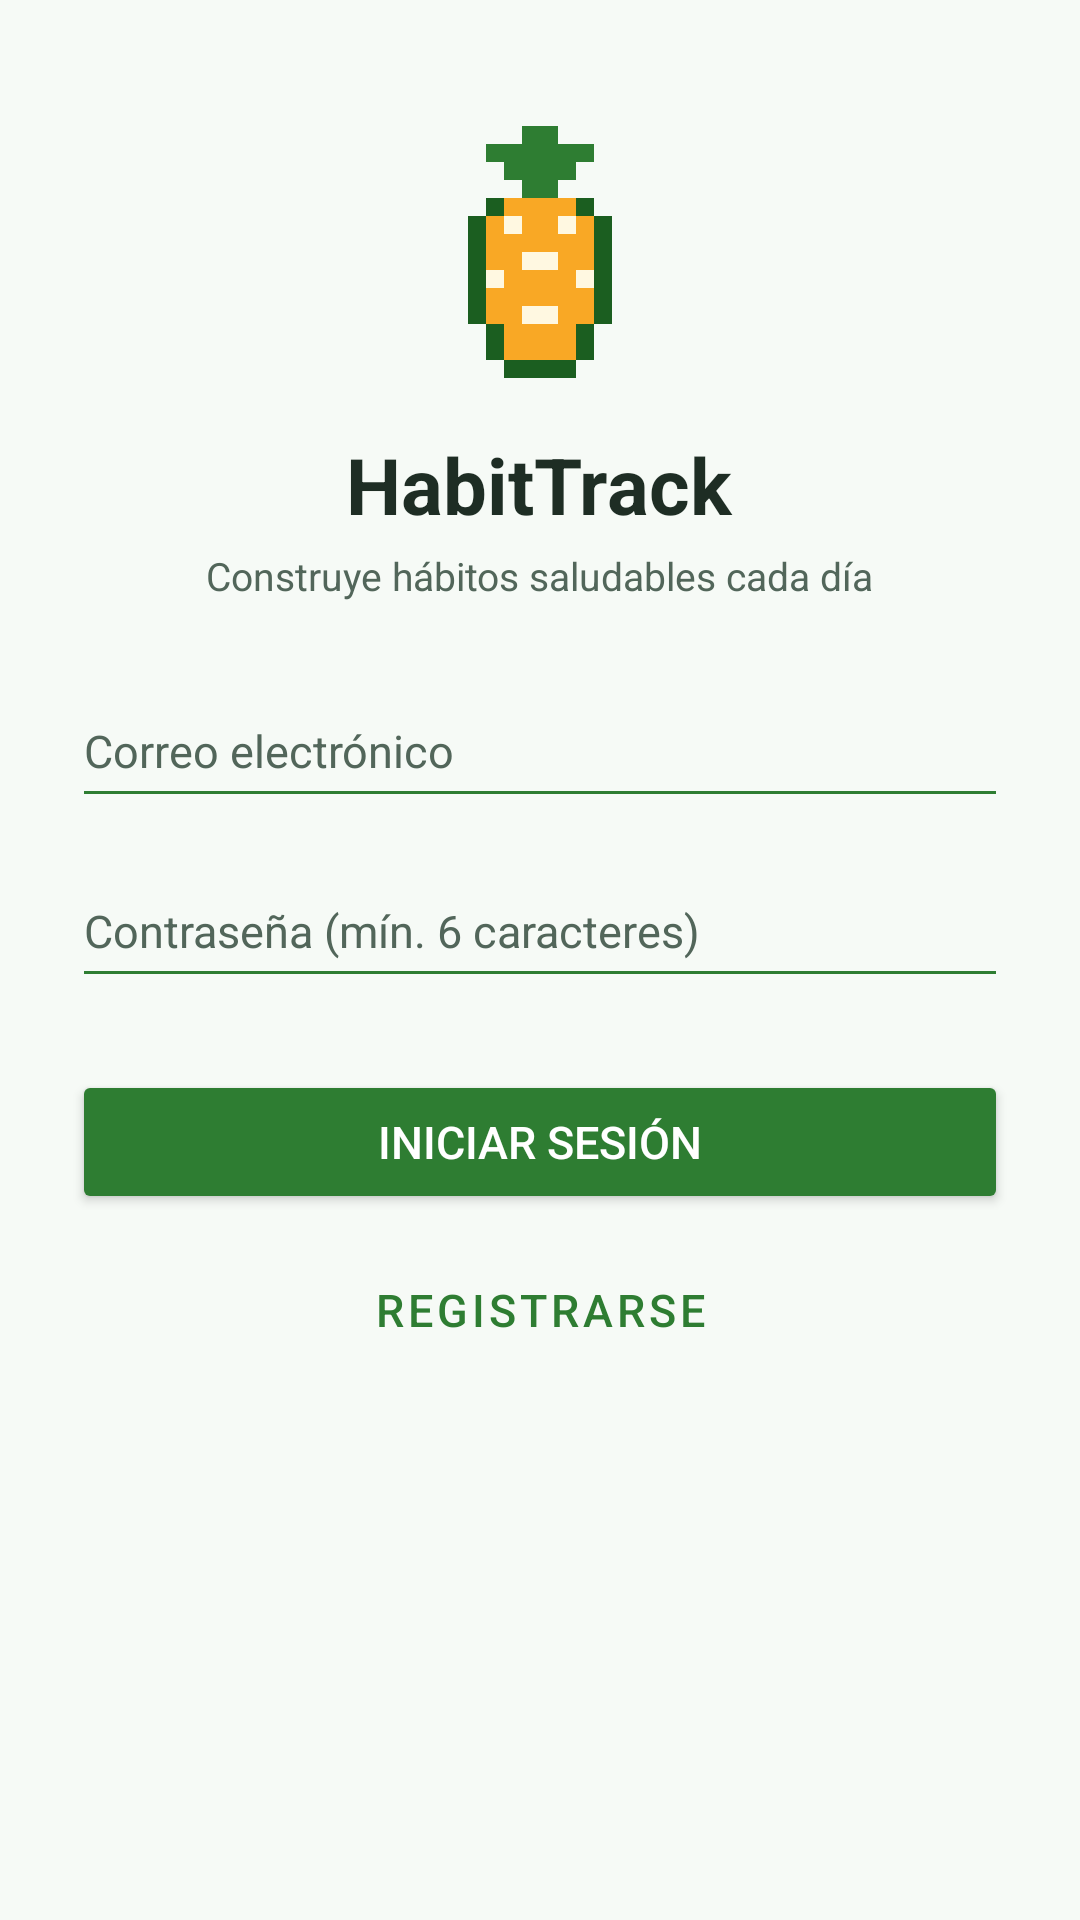

Screen size 1080×1920. Icon name, then its center in pixels as point (x, y):
Ícono pixelado de una piña saludable: point (540, 252)
